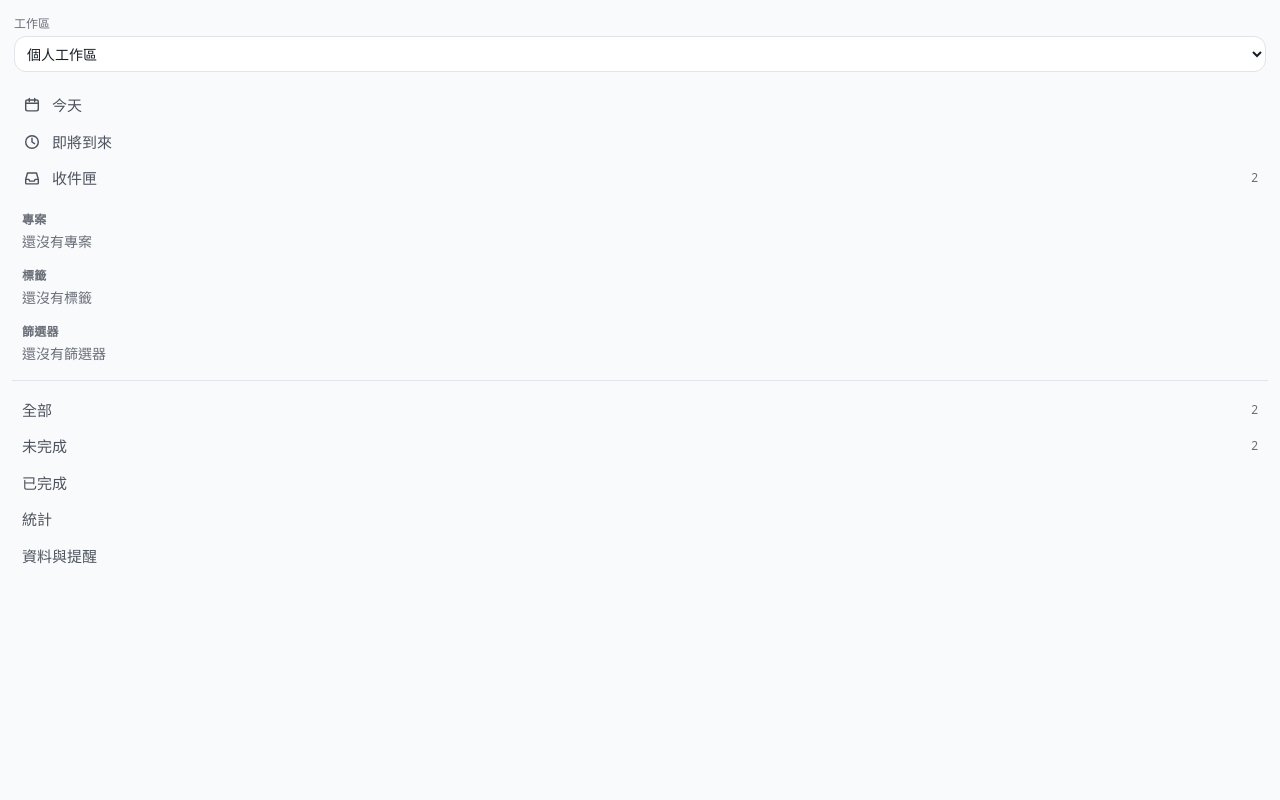
Test: AppSidebar.vue › 工作區切換器 › 切換後真的換掉看得到的任務數——不只是換 MembersDialog 在管理誰
Expected: the link "全部 2" is shown, top-left (22, 400), bottom-right (1258, 420)
Select "共享工作區" in the dropdown labelled "工作區" at point(640, 54), box top-left (14, 36), bottom-right (1266, 72)
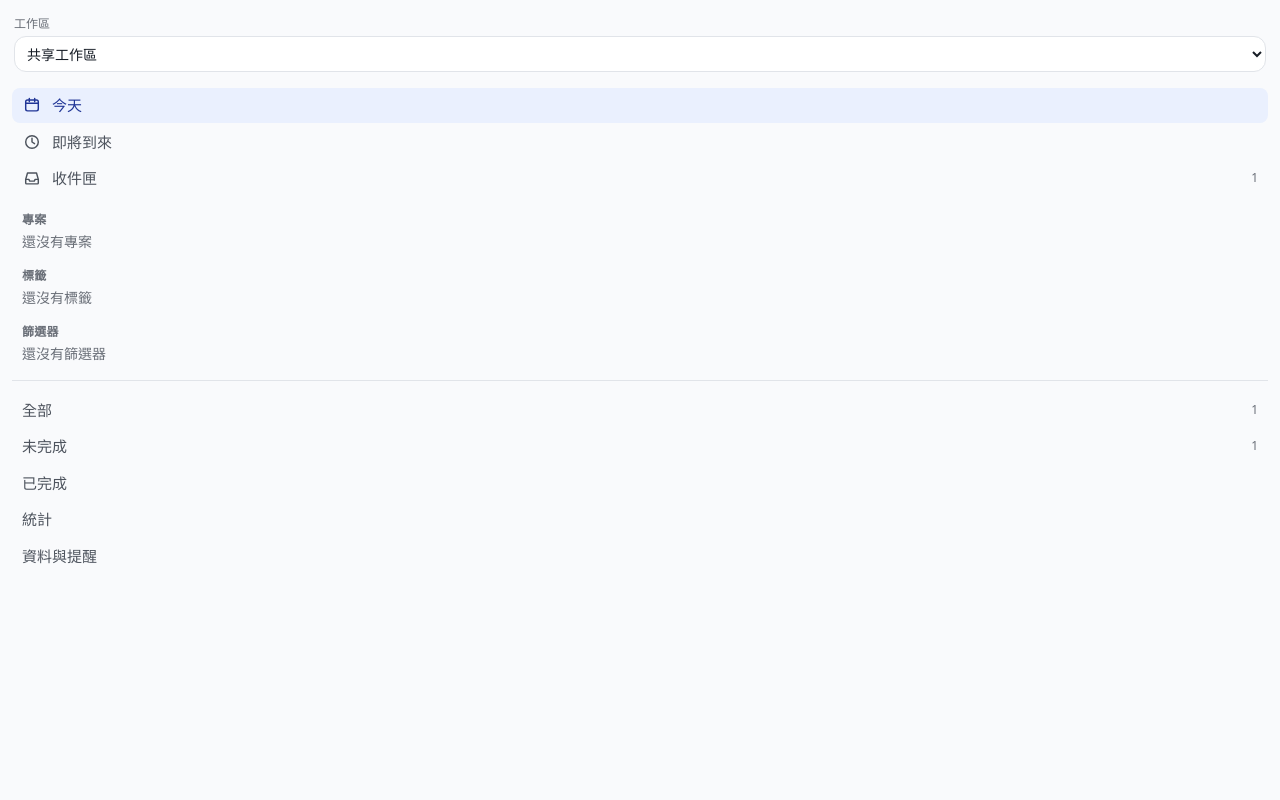
Now the link "全部 1" is shown, box top-left (22, 400), bottom-right (1258, 420)
